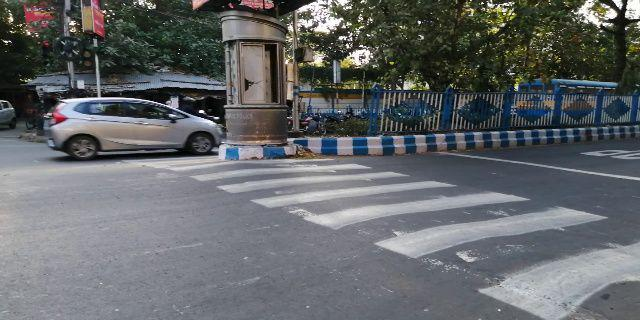Car: (41, 93, 219, 159)
